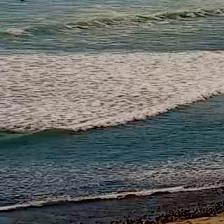surfer: (18, 0, 28, 2)
